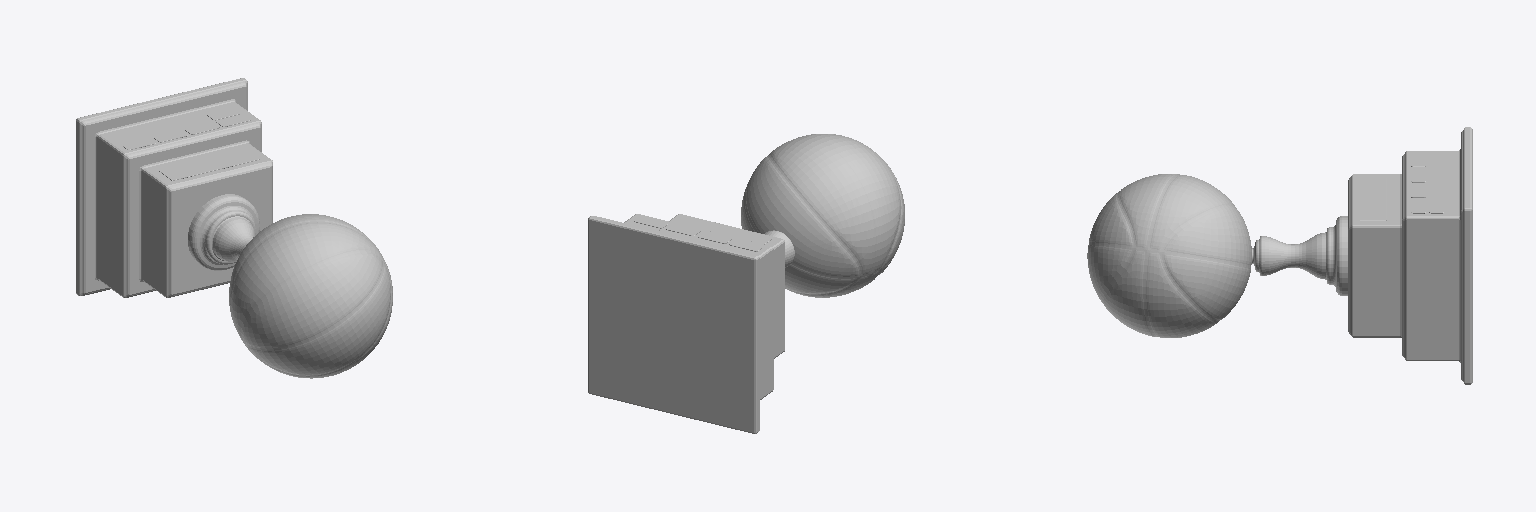
Rendered from BasketballTrophy001.obj.
3 renders of one model, left to right at view 1: azimuth 30°, elevation 25°; view 2: azimuth 150°, elevation 25°; view 3: azimuth 270°, elevation 25°, orthographic.
Visible parts, largest first — view 1: BasketballTrophyModel001_BasketballTrophy001; view 2: BasketballTrophyModel001_BasketballTrophy001; view 3: BasketballTrophyModel001_BasketballTrophy001.
Part boxes in pixels (left/top/right/bottom): BasketballTrophyModel001_BasketballTrophy001: left=76, top=78, right=392, bottom=378; BasketballTrophyModel001_BasketballTrophy001: left=588, top=134, right=904, bottom=433; BasketballTrophyModel001_BasketballTrophy001: left=1087, top=127, right=1472, bottom=384.
Bounding box in the file's own units: 0.2792 × 0.2792 × 0.5515.